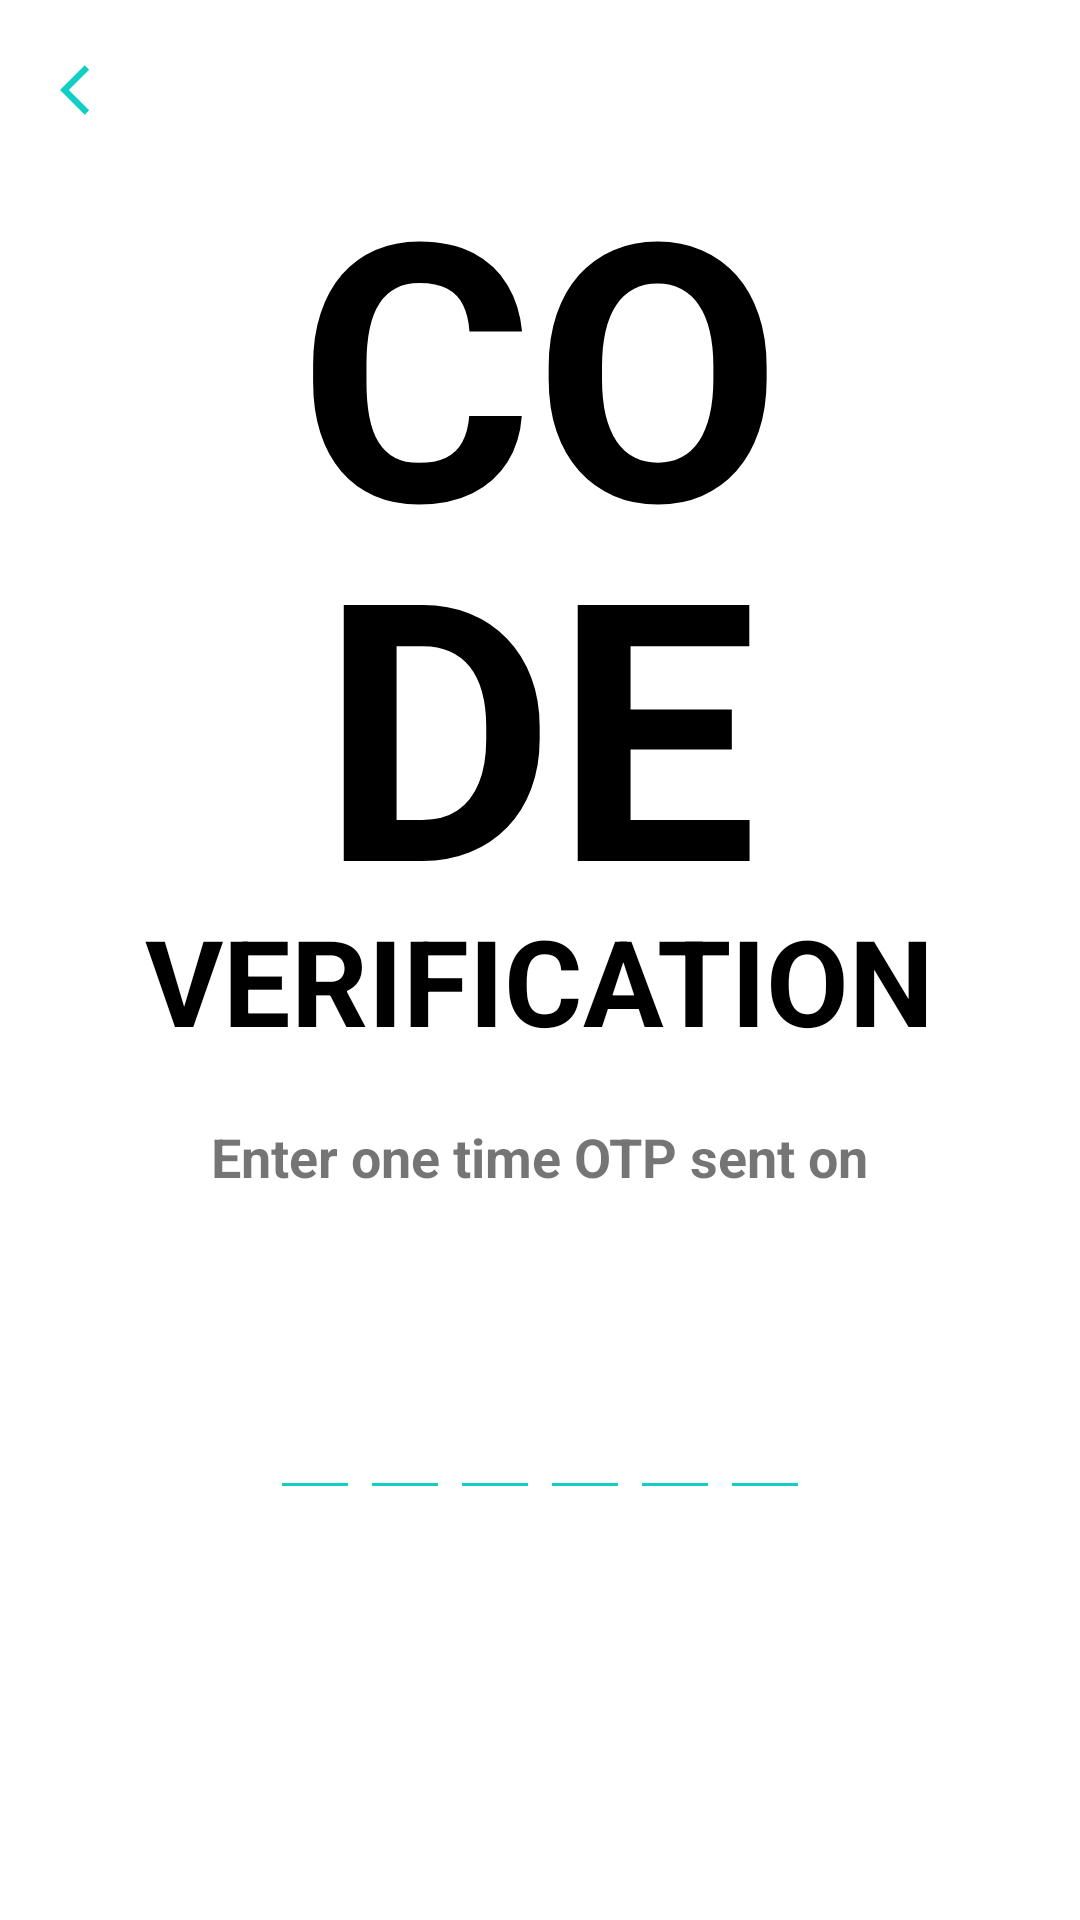

Named icons in this screenshot (1080px x 1920px) and their bounding boxes, (x1, y1, x2, y2):
back: (60, 65, 89, 115)
